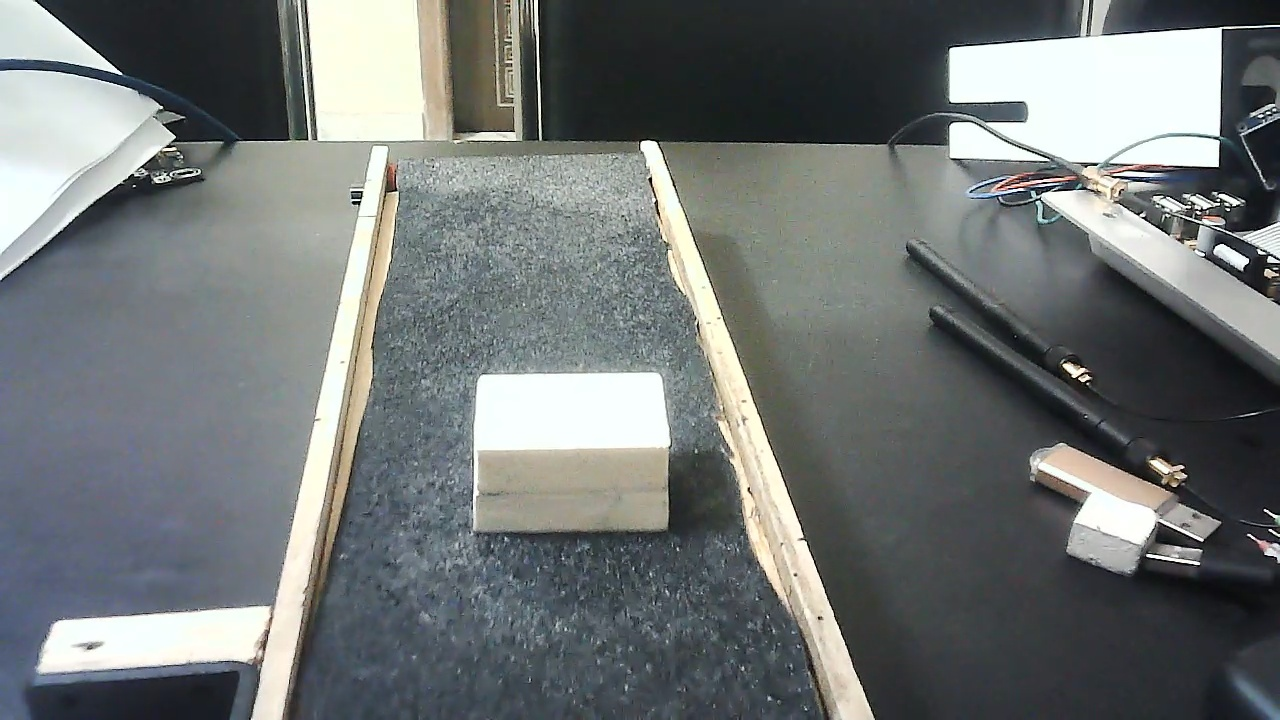BIG: (473, 357, 668, 552)
